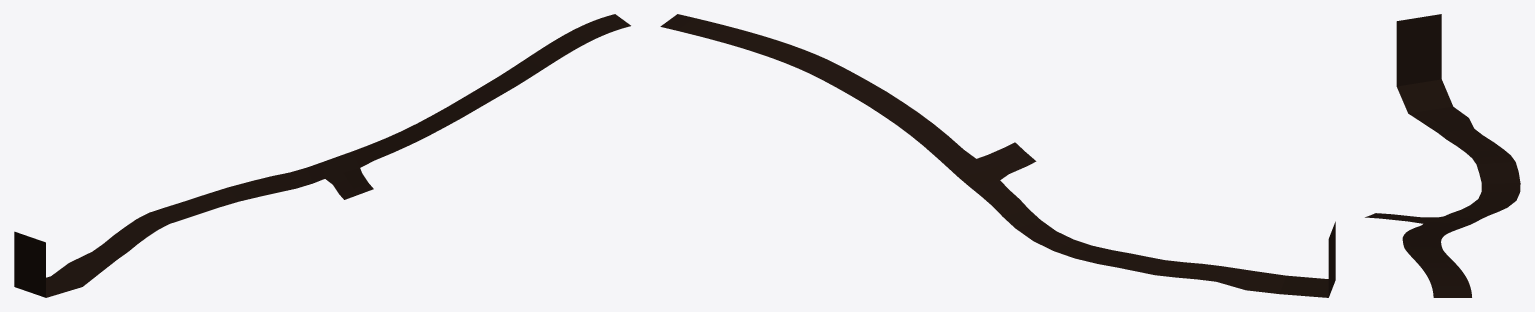
File: calle_tuto.fbx
3 views of the same model, side by side, from view 1: azimuth 30°, elevation 25°; view 2: azimuth 150°, elevation 25°; view 3: azimuth 270°, elevation 25° (orthographic). The views are drawn at different scales.
Parts seen in each view (by area): view 1: Tut_Calle; view 2: Tut_Calle; view 3: Tut_Calle.
Part boxes in pixels (bbox=[...]): Tut_Calle: bbox=[14, 14, 630, 297]; Tut_Calle: bbox=[660, 14, 1335, 297]; Tut_Calle: bbox=[1365, 14, 1520, 297].
Size of the model in its own units: 43766 by 7960 by 8186.
